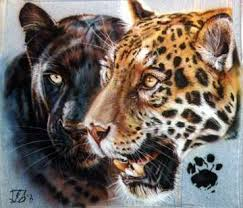leopard: (85, 2, 243, 199)
panther: (1, 1, 132, 208)
